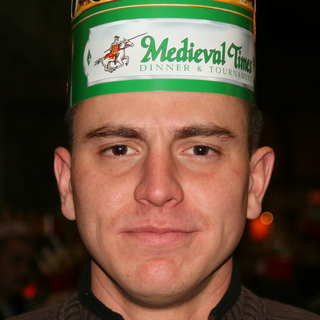eye: (179, 140, 224, 164), (96, 140, 141, 164)
